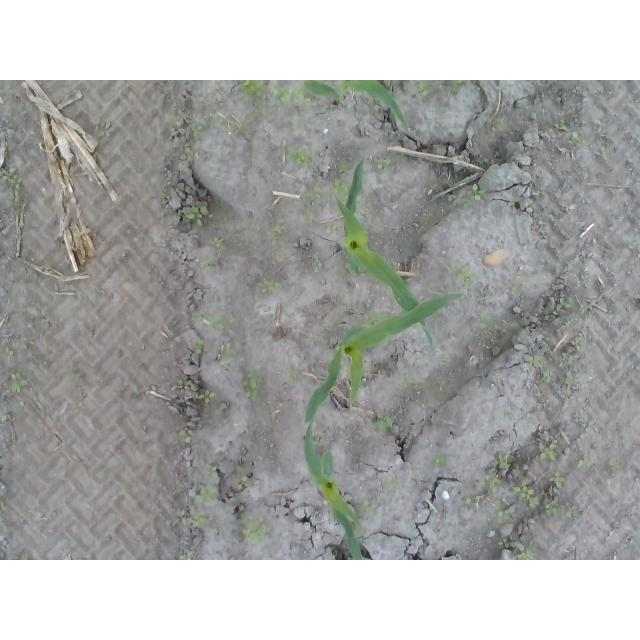Maize: (304, 292, 464, 426), (331, 156, 437, 353), (302, 418, 370, 560), (297, 80, 407, 130)
Weeds: (177, 511, 225, 537), (191, 308, 234, 332), (496, 537, 536, 560), (0, 167, 22, 208), (242, 512, 269, 544), (288, 144, 324, 168), (270, 222, 288, 266), (531, 352, 554, 384), (272, 85, 305, 107), (241, 370, 263, 402), (192, 482, 220, 507), (213, 112, 241, 136), (514, 484, 539, 509), (561, 335, 584, 362), (304, 183, 336, 201), (506, 271, 527, 298), (7, 371, 26, 400), (592, 127, 608, 161), (461, 182, 481, 209), (495, 499, 514, 526), (179, 206, 208, 223), (477, 470, 500, 491), (478, 310, 502, 330), (190, 116, 211, 136), (452, 265, 472, 286), (221, 344, 235, 373), (258, 279, 283, 294), (243, 80, 265, 97), (192, 254, 215, 270), (177, 426, 195, 446), (548, 473, 568, 491), (359, 499, 378, 517), (539, 447, 561, 462), (376, 158, 394, 176), (471, 111, 488, 130), (375, 416, 393, 433), (543, 500, 561, 517), (183, 144, 201, 161), (196, 390, 216, 405), (464, 494, 484, 509), (495, 451, 511, 469), (174, 378, 191, 394), (624, 234, 640, 250), (386, 479, 403, 494), (2, 344, 15, 363), (417, 80, 431, 97), (311, 255, 323, 273), (575, 132, 590, 146), (307, 206, 318, 225), (22, 335, 35, 351), (559, 295, 577, 306), (286, 369, 298, 385), (194, 341, 207, 355), (94, 119, 112, 129), (399, 374, 414, 386), (339, 159, 349, 176), (210, 237, 224, 249), (563, 371, 574, 386), (576, 457, 588, 470), (325, 224, 338, 236), (553, 120, 568, 130), (432, 457, 445, 468), (207, 463, 217, 477), (234, 479, 247, 489), (536, 186, 547, 197), (565, 103, 575, 115), (501, 412, 514, 421), (495, 119, 506, 129), (423, 212, 434, 222), (178, 552, 190, 561), (11, 554, 28, 560), (341, 184, 352, 193), (453, 80, 465, 88), (504, 200, 513, 208)
